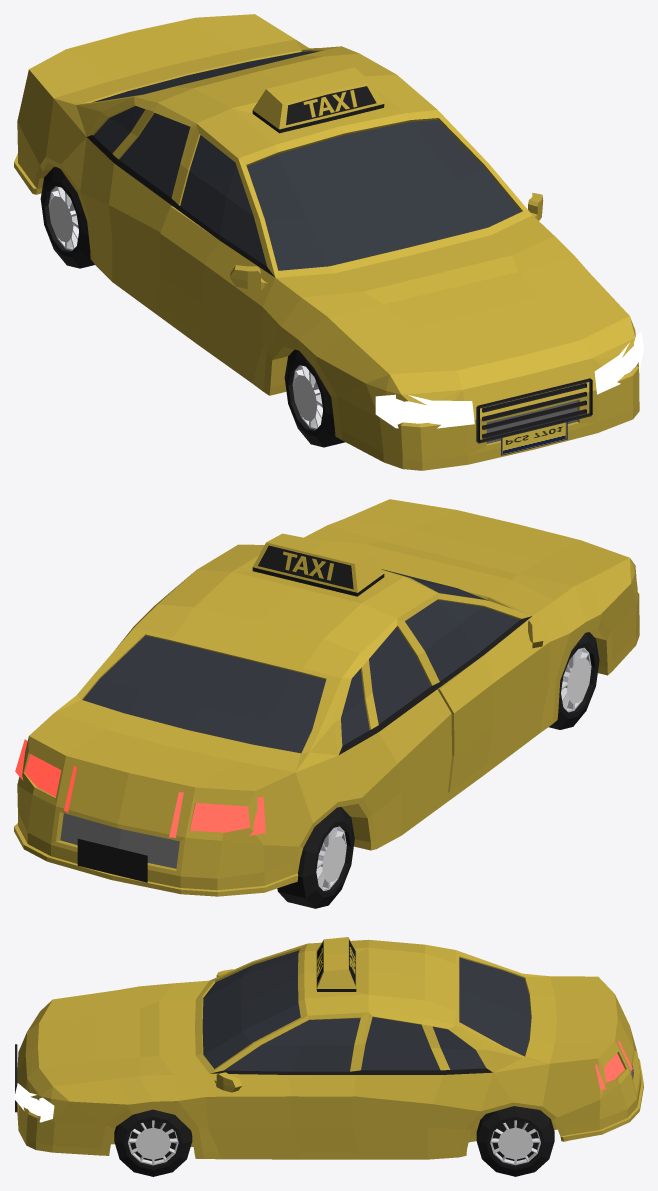
Rendered from taxi.glb.
3 renders of one model, top to bottom at view 1: azimuth 30°, elevation 25°; view 2: azimuth 150°, elevation 25°; view 3: azimuth 270°, elevation 25°, orthographic. The views are drawn at different scales.
Parts seen in each view (by area): view 1: body, hood, door_FR, door_RR, bumper_front, grille, wheel_RR, wheel_FR, headlight_R, hubcap (×2), headlight_L, plate; view 2: body, hood, door_FR, door_RR, bumper_rear, wheel_RR, taillight_R, wheel_FR, plate, hubcap (×2), taillight_L, bumper_front; view 3: body, door_FL, hood, door_RL, wheel_RL, wheel_FL, bumper_front, bumper_rear, hubcap (×2), headlight_L, taillight_L.
Part boxes in pixels (box(x1,y1,x2,y2)): body: box(14, 14, 635, 461); hood: box(263, 215, 635, 394); door_FR: box(156, 110, 330, 391); door_RR: box(78, 97, 199, 334); bumper_front: box(341, 332, 639, 470); grille: box(476, 378, 592, 443); wheel_RR: box(40, 166, 94, 268); wheel_FR: box(284, 349, 345, 447); headlight_R: box(375, 394, 474, 428); hubcap (×2): box(49, 196, 316, 421); headlight_L: box(594, 332, 643, 394); plate: box(501, 422, 567, 455); body: box(14, 533, 636, 892); hood: box(304, 499, 630, 641); door_FR: box(313, 573, 558, 801); door_RR: box(333, 619, 485, 850); bumper_rear: box(14, 785, 264, 896); wheel_RR: box(277, 807, 354, 908); taillight_R: box(169, 792, 265, 837); wheel_FR: box(549, 632, 599, 729); plate: box(77, 839, 147, 882); hubcap (×2): box(322, 657, 590, 882); taillight_L: box(15, 739, 76, 812); bumper_front: box(612, 565, 639, 661); body: box(36, 937, 634, 1158); door_FL: box(196, 966, 368, 1159); hood: box(25, 980, 209, 1104); door_RL: box(350, 1012, 493, 1159); wheel_RL: box(476, 1106, 554, 1176); wheel_FL: box(114, 1109, 192, 1176); bumper_front: box(17, 1032, 99, 1155); bumper_rear: box(599, 1032, 643, 1134); hubcap (×2): box(135, 1127, 533, 1159); headlight_L: box(14, 1083, 54, 1122); taillight_L: box(595, 1040, 632, 1090).
Bounding box in the file's own units: 1.97 × 1.43 × 4.62.
12 materials, 1 textured.
